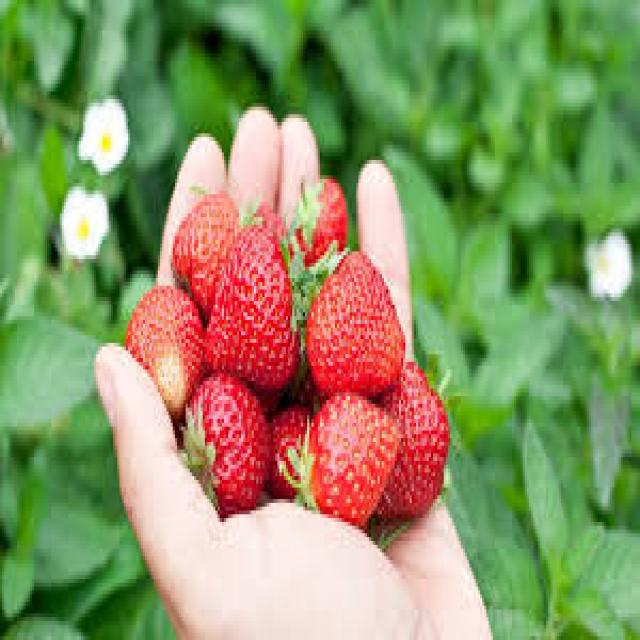strawberry: (203, 214, 312, 380), (294, 259, 409, 382), (298, 392, 404, 515), (116, 276, 204, 407), (185, 382, 268, 509)
